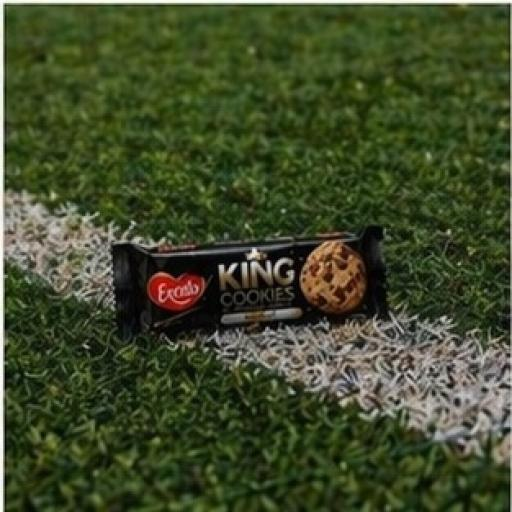king-cooking: (101, 172, 429, 388)
